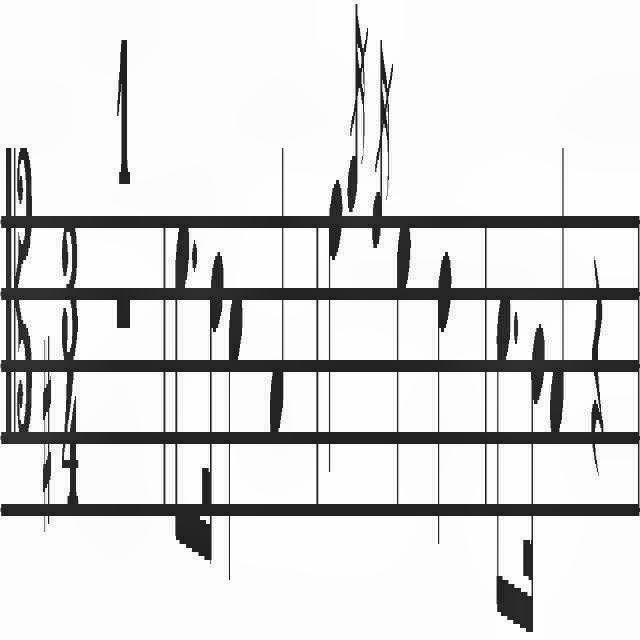Diez: (38, 332, 54, 544)
Eighth-note: (169, 184, 189, 568), (494, 268, 511, 640)
Quarter-note: (262, 114, 290, 462), (392, 197, 414, 539), (548, 132, 570, 462), (436, 226, 456, 564), (226, 278, 247, 590), (324, 164, 342, 484)
Quarter-rest: (586, 227, 606, 495)
Sixteenth-note: (200, 233, 224, 584), (522, 304, 546, 640)
